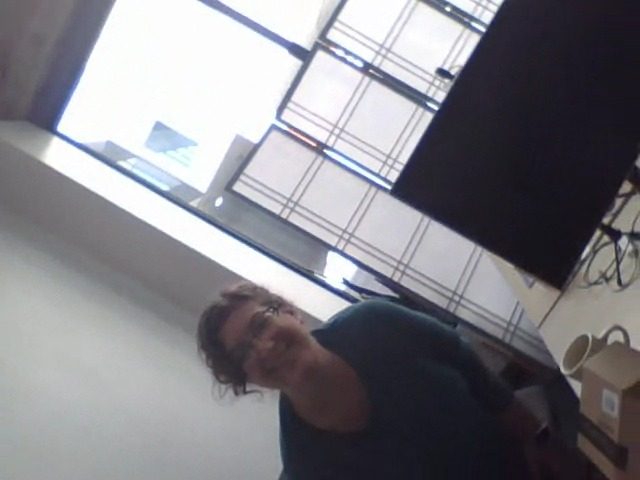face: (217, 300, 320, 397)
